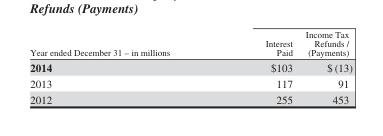table: (29, 28, 351, 104)
table column: (29, 28, 217, 104), (217, 28, 298, 104), (298, 28, 351, 104)
table column header: (29, 28, 351, 58)
table row: (29, 28, 351, 58), (29, 58, 351, 74), (29, 74, 351, 90), (29, 90, 351, 104)
